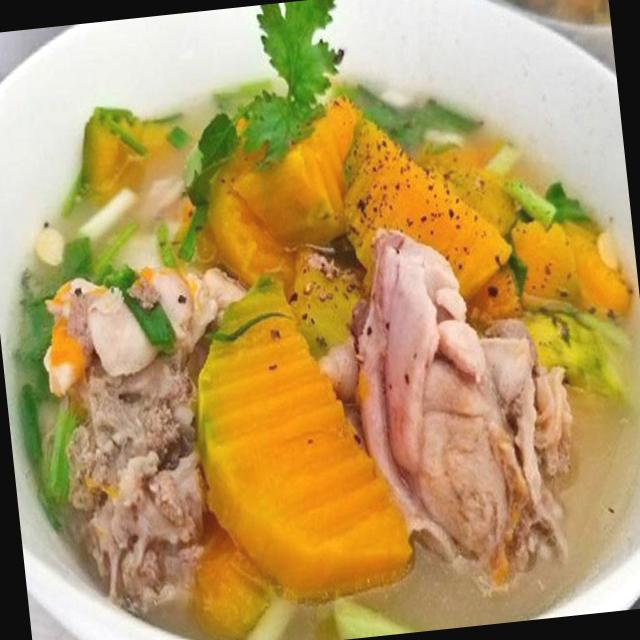canh bi do: (11, 0, 640, 640)
